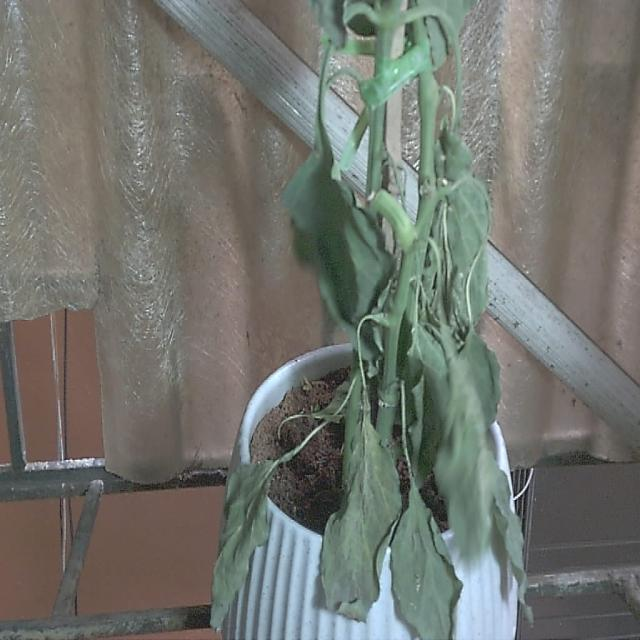Leaf: (319, 401, 403, 623), (387, 479, 460, 640)
